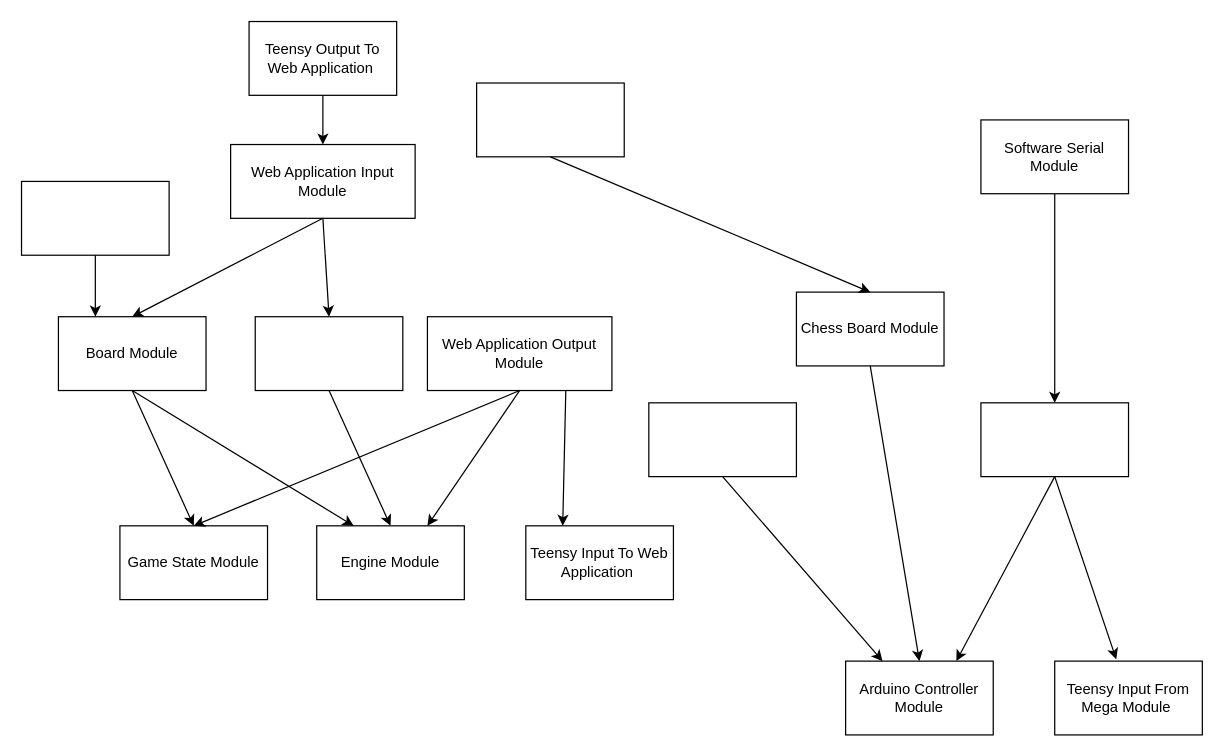
Image size: 1224x756. Some labels were removed from this diagram. The centre of each missing label's shape, as x and y in pixels:
"Arduino Module" belongs at pixel 722 439.
"Communication Module" belongs at pixel 1054 439.
"Display Module" belongs at pixel 94 217.
"Mode Module" belongs at pixel 328 353.
"Piece Identification Module" belongs at pixel 549 119.
